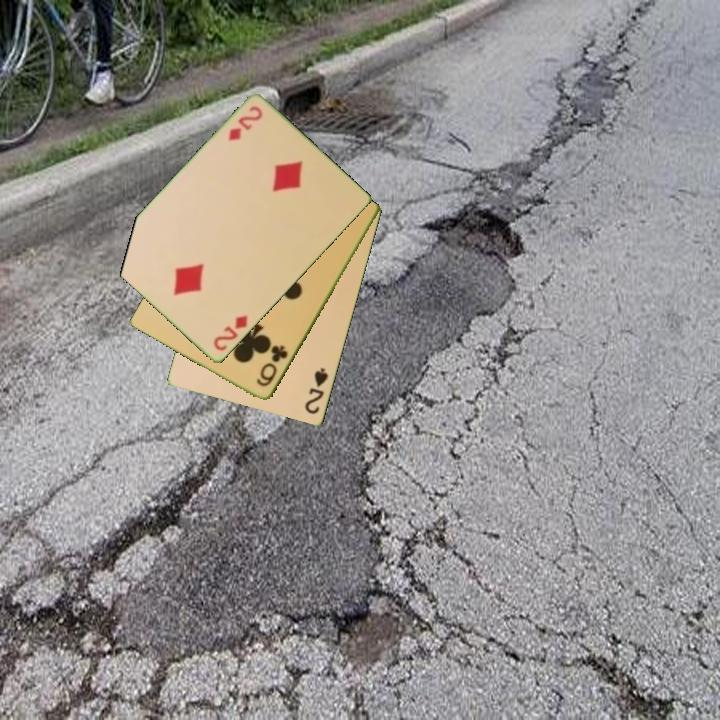2d: (210, 312, 251, 354), (225, 103, 266, 144)
2s: (301, 365, 331, 417)
6c: (253, 342, 291, 390)
